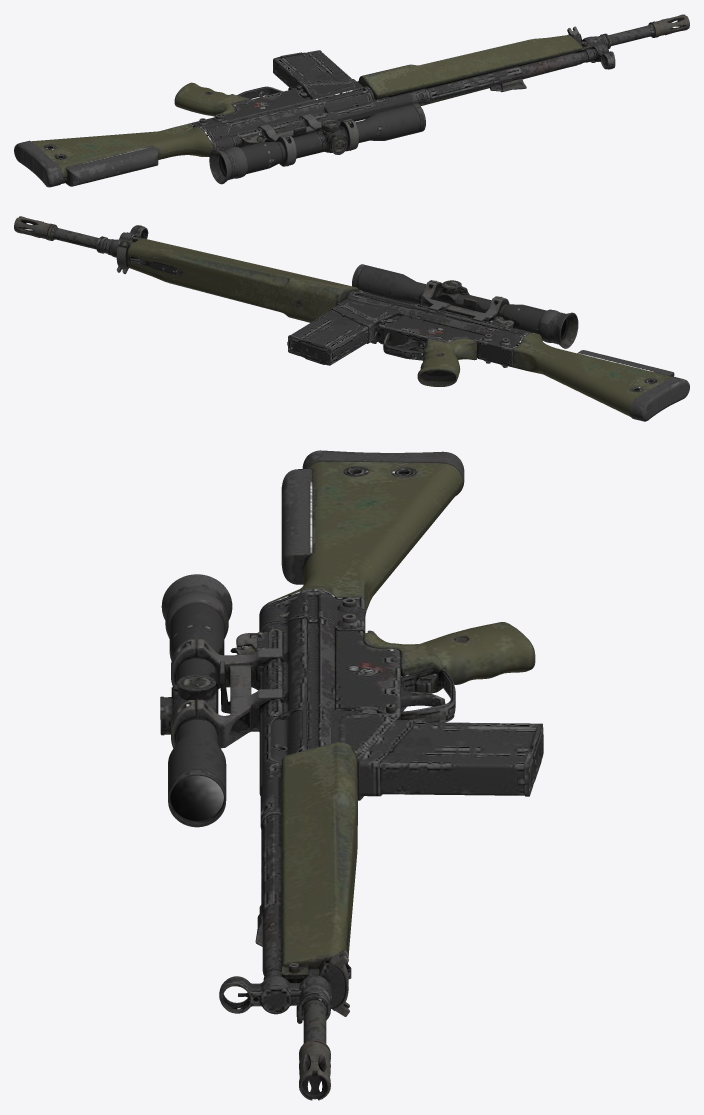
The picture shows the model from 3 angles, top to bottom: view 1: azimuth 30°, elevation 25°; view 2: azimuth 150°, elevation 25°; view 3: azimuth 270°, elevation 25°; orthographic projection. The views are drawn at different scales.
Visible parts, largest first — view 1: w_g3sg1; view 2: w_g3sg1; view 3: w_g3sg1.
Part boxes in pixels (left/top/right/bottom): w_g3sg1: left=14, top=14, right=689, bottom=187; w_g3sg1: left=14, top=216, right=689, bottom=421; w_g3sg1: left=160, top=450, right=543, bottom=1100.
Bounding box in the file's own units: 1.43 × 0.0804 × 0.371.
Materials: 2 (2 with a texture image).
